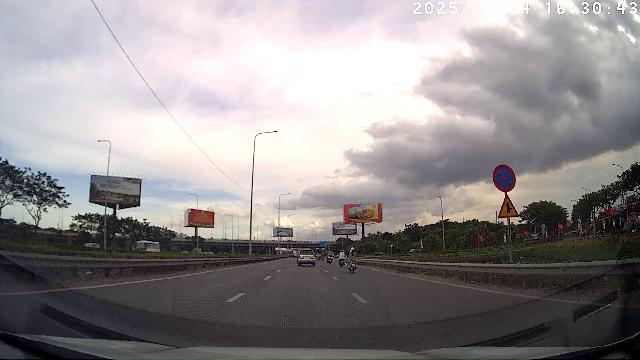130-cam-dung-va-do-xe: (492, 164, 517, 193)
